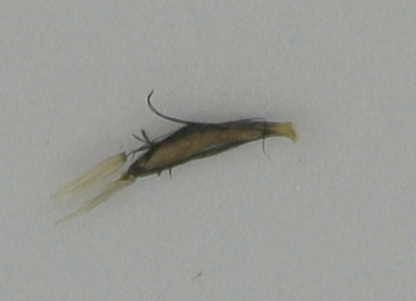เมล้ดปลายพู่กัน: (45, 87, 299, 231)
